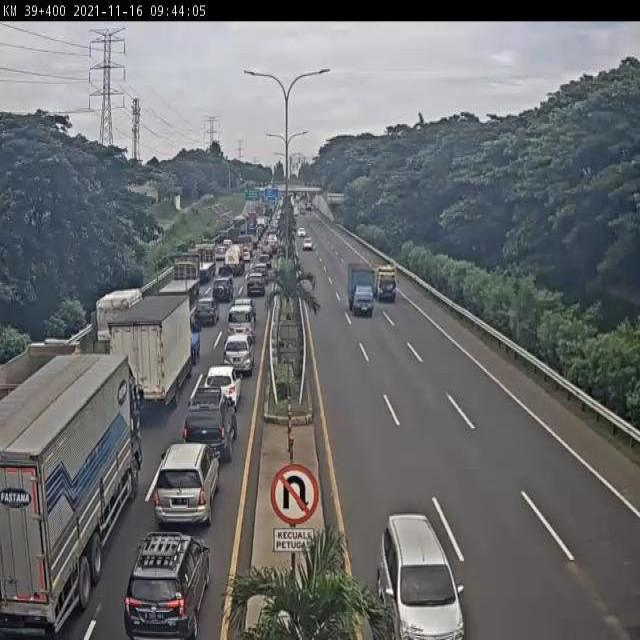car: (381, 508, 472, 640), (128, 534, 216, 638), (151, 440, 220, 528), (188, 389, 243, 451), (205, 360, 242, 409), (223, 304, 260, 340), (219, 333, 253, 372), (245, 274, 270, 310)
small truck: (372, 260, 399, 300)
truck-l-: (0, 353, 145, 640), (164, 256, 200, 304), (196, 243, 217, 281)
truck-m-: (108, 295, 193, 413), (95, 289, 144, 364), (349, 268, 377, 319)
